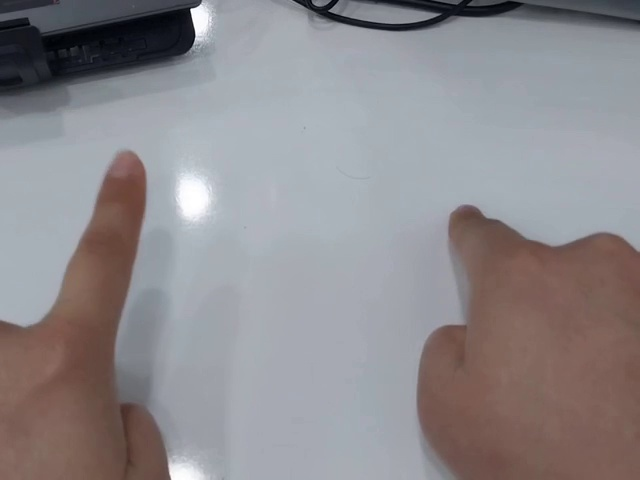fingers: (97, 149, 148, 217), (446, 202, 499, 252)
